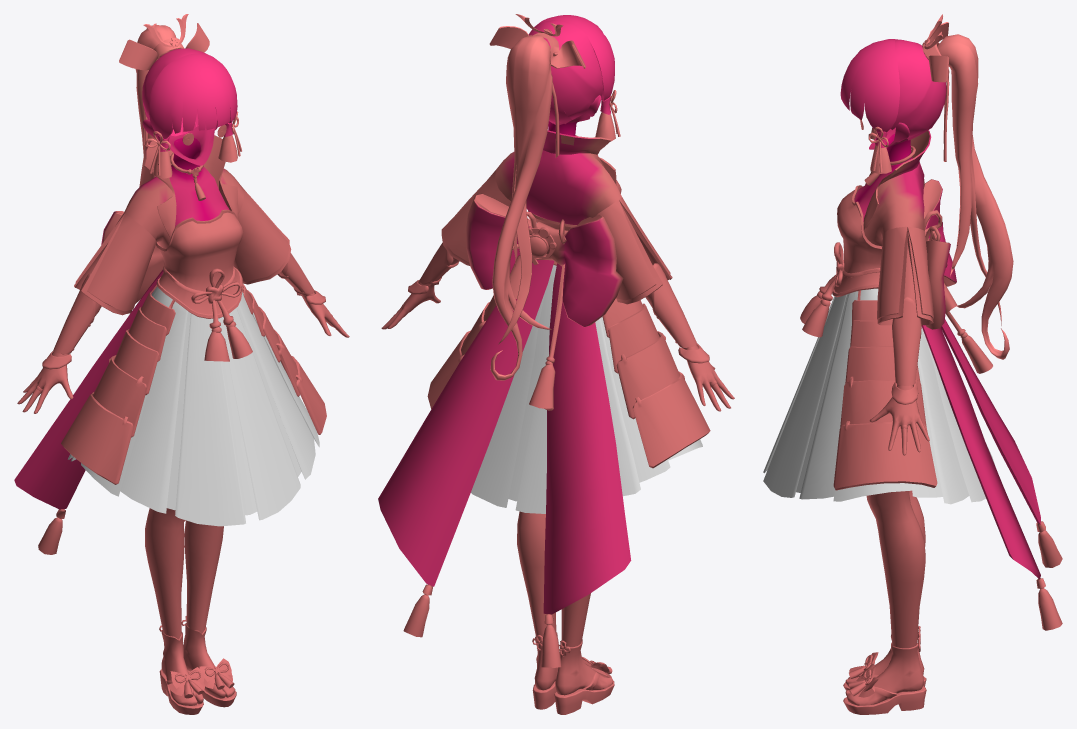
The model's file is Ayaka_Static.fbx.
The picture shows the model from 3 angles, left to right: view 1: azimuth 30°, elevation 25°; view 2: azimuth 150°, elevation 25°; view 3: azimuth 270°, elevation 25°; orthographic projection. The views are drawn at different scales.
Parts seen in each view (by area): view 1: AyakaBody-vb0=0107925f.txt, AyakaDress-vb0=0107925f.txt, AyakaHead-vb0=0107925f.txt; view 2: AyakaBody-vb0=0107925f.txt, AyakaHead-vb0=0107925f.txt, AyakaDress-vb0=0107925f.txt; view 3: AyakaBody-vb0=0107925f.txt, AyakaHead-vb0=0107925f.txt, AyakaDress-vb0=0107925f.txt.
Boxes of the visible parts, left/top/right/bottom form: AyakaBody-vb0=0107925f.txt: left=14, top=107, right=349, bottom=714; AyakaDress-vb0=0107925f.txt: left=68, top=286, right=319, bottom=526; AyakaHead-vb0=0107925f.txt: left=119, top=14, right=241, bottom=186; AyakaBody-vb0=0107925f.txt: left=378, top=95, right=734, bottom=714; AyakaHead-vb0=0107925f.txt: left=489, top=14, right=620, bottom=380; AyakaDress-vb0=0107925f.txt: left=470, top=265, right=702, bottom=513; AyakaBody-vb0=0107925f.txt: left=800, top=122, right=1062, bottom=714; AyakaHead-vb0=0107925f.txt: left=840, top=14, right=1013, bottom=359; AyakaDress-vb0=0107925f.txt: left=763, top=288, right=995, bottom=504.
Bounding box in the file's own units: 83.14 × 161 × 64.82.
